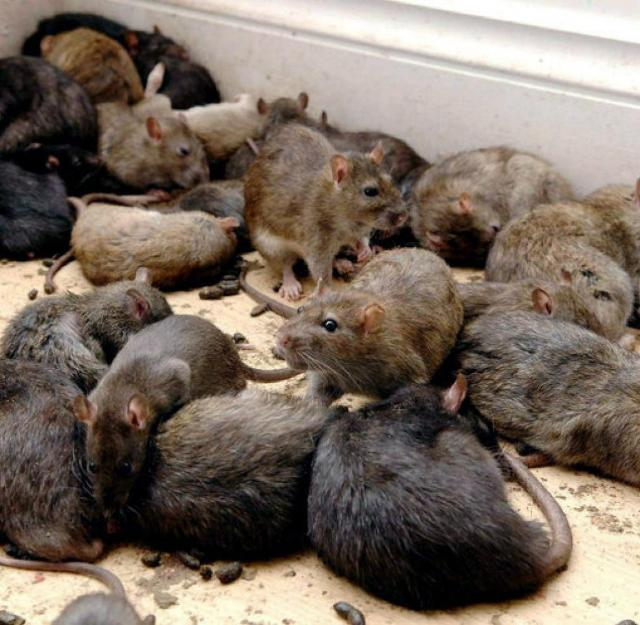rat: (302, 378, 522, 614), (272, 242, 472, 402), (240, 110, 420, 278), (64, 350, 170, 528), (95, 107, 228, 201)
